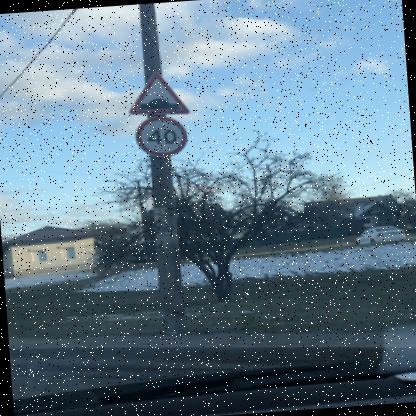speedlimit: (132, 113, 188, 158)
